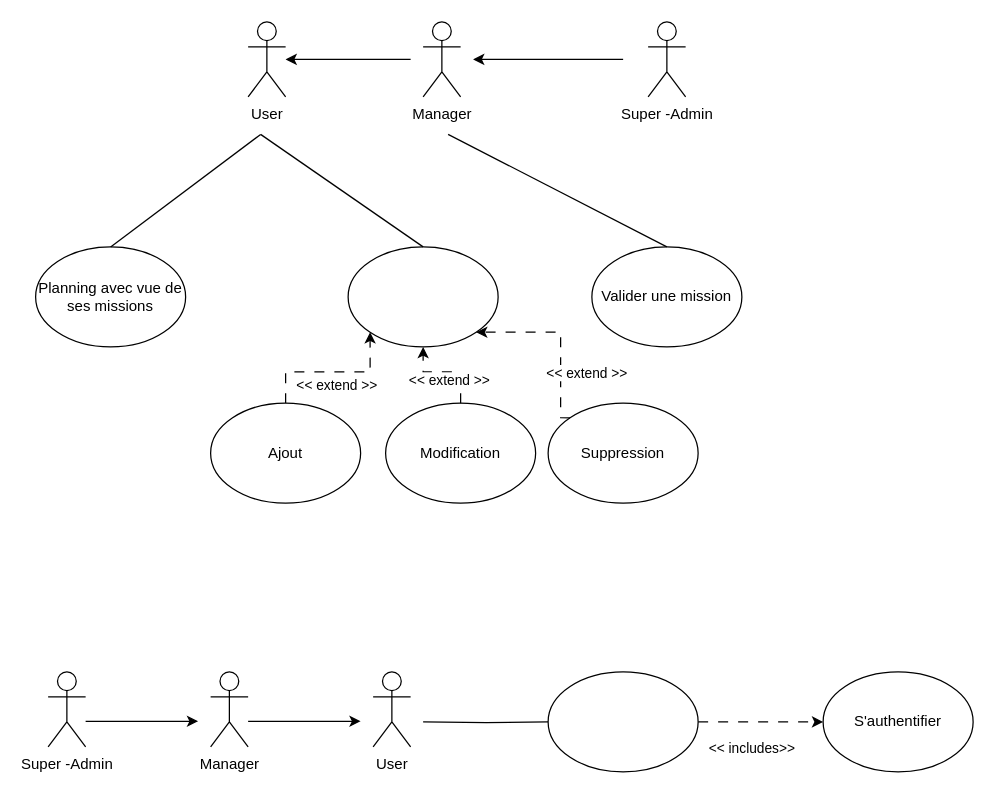
Image size: 995x795. Some labels were removed from this diagram. The centre of each missing label's shape, as x and y in pixels:
Accès aux fonctionnalités: (x=622, y=721)
Visuel de ses missions: (x=422, y=296)
